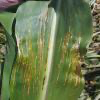Corn leaf blight: (14, 0, 93, 99)
